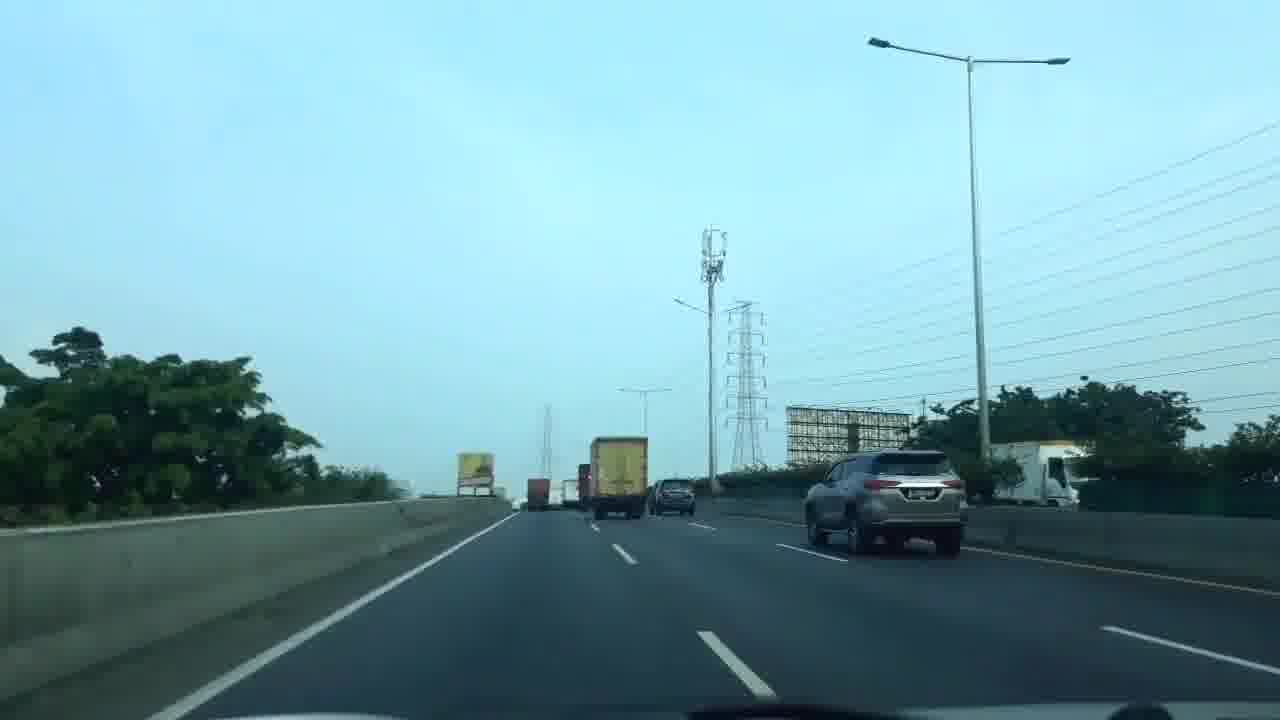plate_positive: (906, 488, 937, 498)
